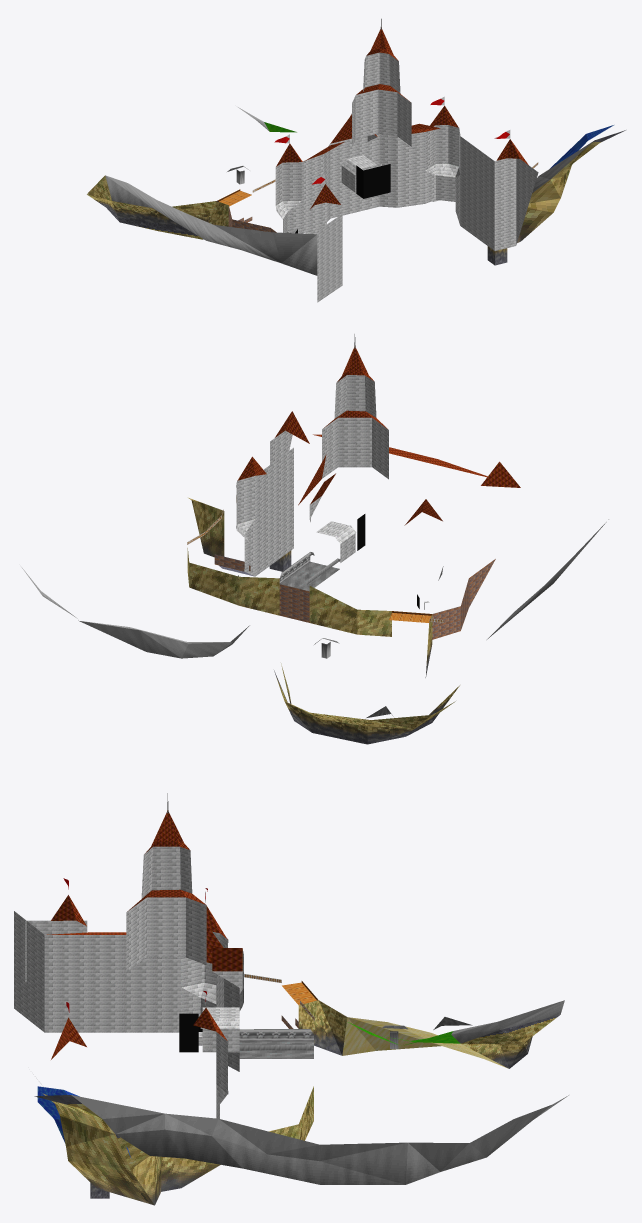
File: Peaches Castle.gltf
The picture shows the model from 3 angles, top to bottom: view 1: azimuth 30°, elevation 25°; view 2: azimuth 150°, elevation 25°; view 3: azimuth 270°, elevation 25°; orthographic projection. The views are drawn at different scales.
Parts seen in each view (by area): view 1: Shape_IndexedFaceSet_017_Shape_IndexedFaceSet.139, Shape_IndexedFaceSet_038_Shape_IndexedFaceSet.160, Shape_IndexedFaceSet_034_Shape_IndexedFaceSet.156, Shape_IndexedFaceSet_071_Shape_IndexedFaceSet.193, Shape_IndexedFaceSet_012_Shape_IndexedFaceSet.134, Shape_IndexedFaceSet_019_Shape_IndexedFaceSet.141, Shape_IndexedFaceSet_070_Shape_IndexedFaceSet.192; view 2: Shape_IndexedFaceSet_017_Shape_IndexedFaceSet.139, Shape_IndexedFaceSet_032_Shape_IndexedFaceSet.154, Shape_IndexedFaceSet_071_Shape_IndexedFaceSet.193, Shape_IndexedFaceSet_038_Shape_IndexedFaceSet.160, Shape_IndexedFaceSet_034_Shape_IndexedFaceSet.156, Shape_IndexedFaceSet_012_Shape_IndexedFaceSet.134, Shape_IndexedFaceSet_039_Shape_IndexedFaceSet.161, Shape_IndexedFaceSet_035_Shape_IndexedFaceSet.157, Shape_IndexedFaceSet_014_Shape_IndexedFaceSet.136, Shape_IndexedFaceSet_070_Shape_IndexedFaceSet.192, Shape_IndexedFaceSet_031_Shape_IndexedFaceSet.153; view 3: Shape_IndexedFaceSet_017_Shape_IndexedFaceSet.139, Shape_IndexedFaceSet_038_Shape_IndexedFaceSet.160, Shape_IndexedFaceSet_071_Shape_IndexedFaceSet.193, Shape_IndexedFaceSet_034_Shape_IndexedFaceSet.156, Shape_IndexedFaceSet_012_Shape_IndexedFaceSet.134, Shape_IndexedFaceSet_031_Shape_IndexedFaceSet.153, Shape_IndexedFaceSet_027_Shape_IndexedFaceSet.149, Shape_IndexedFaceSet_070_Shape_IndexedFaceSet.192, Shape_IndexedFaceSet_013_Shape_IndexedFaceSet.135, Shape_IndexedFaceSet_014_Shape_IndexedFaceSet.136, Shape_IndexedFaceSet_035_Shape_IndexedFaceSet.157, Shape_IndexedFaceSet_019_Shape_IndexedFaceSet.141 (+3 smaller).
Boxes of the visible parts, x1,y1,x2,y2 form: Shape_IndexedFaceSet_017_Shape_IndexedFaceSet.139: (275,113,538,302); Shape_IndexedFaceSet_038_Shape_IndexedFaceSet.160: (105,107,593,275); Shape_IndexedFaceSet_034_Shape_IndexedFaceSet.156: (87,130,625,242); Shape_IndexedFaceSet_071_Shape_IndexedFaceSet.193: (352,52,411,146); Shape_IndexedFaceSet_012_Shape_IndexedFaceSet.134: (276,105,528,209); Shape_IndexedFaceSet_019_Shape_IndexedFaceSet.141: (287,164,390,233); Shape_IndexedFaceSet_070_Shape_IndexedFaceSet.192: (356,27,407,99); Shape_IndexedFaceSet_017_Shape_IndexedFaceSet.139: (236,430,443,609); Shape_IndexedFaceSet_032_Shape_IndexedFaceSet.154: (189,562,391,636); Shape_IndexedFaceSet_071_Shape_IndexedFaceSet.193: (322,375,388,479); Shape_IndexedFaceSet_038_Shape_IndexedFaceSet.160: (21,519,608,658); Shape_IndexedFaceSet_034_Shape_IndexedFaceSet.156: (187,548,459,744); Shape_IndexedFaceSet_012_Shape_IndexedFaceSet.134: (237,411,520,525); Shape_IndexedFaceSet_039_Shape_IndexedFaceSet.161: (279,559,495,639); Shape_IndexedFaceSet_035_Shape_IndexedFaceSet.157: (188,497,224,557); Shape_IndexedFaceSet_014_Shape_IndexedFaceSet.136: (280,562,339,591); Shape_IndexedFaceSet_070_Shape_IndexedFaceSet.192: (324,346,387,428); Shape_IndexedFaceSet_031_Shape_IndexedFaceSet.153: (281,663,412,744); Shape_IndexedFaceSet_017_Shape_IndexedFaceSet.139: (14,911,242,1118); Shape_IndexedFaceSet_038_Shape_IndexedFaceSet.160: (33,1000,568,1184); Shape_IndexedFaceSet_071_Shape_IndexedFaceSet.193: (126,846,206,971); Shape_IndexedFaceSet_034_Shape_IndexedFaceSet.156: (34,1015,559,1205); Shape_IndexedFaceSet_012_Shape_IndexedFaceSet.134: (47,895,242,1059); Shape_IndexedFaceSet_031_Shape_IndexedFaceSet.153: (298,1000,523,1068); Shape_IndexedFaceSet_027_Shape_IndexedFaceSet.149: (342,1017,441,1055); Shape_IndexedFaceSet_070_Shape_IndexedFaceSet.192: (127,810,205,911); Shape_IndexedFaceSet_013_Shape_IndexedFaceSet.135: (227,938,313,1093); Shape_IndexedFaceSet_014_Shape_IndexedFaceSet.136: (239,1041,313,1058); Shape_IndexedFaceSet_035_Shape_IndexedFaceSet.157: (131,1156,161,1204); Shape_IndexedFaceSet_019_Shape_IndexedFaceSet.141: (179,1013,202,1052).
Size of the model in its own units: 16.44 by 9.96 by 16.22.
Materials: 76 (50 with a texture image).
